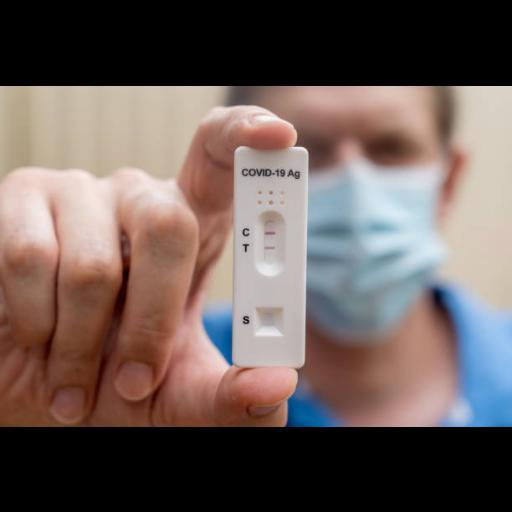Pos: (235, 146, 303, 364)
